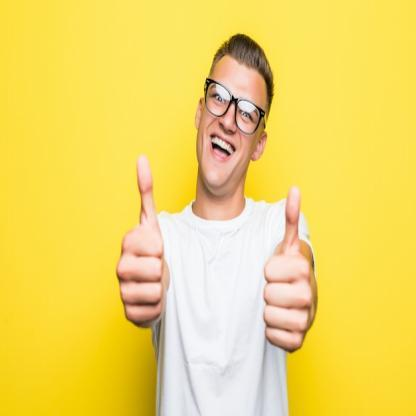thumb_up: (112, 146, 169, 328), (262, 184, 316, 354)
